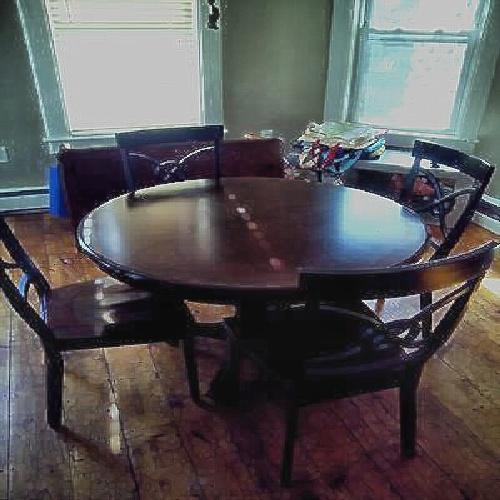table: (82, 179, 446, 352)
